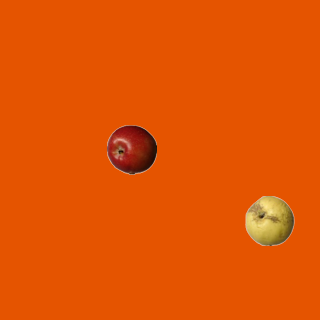Apple Braeburn: (106, 124, 156, 174)
Apple Golden 1: (244, 195, 294, 245)
